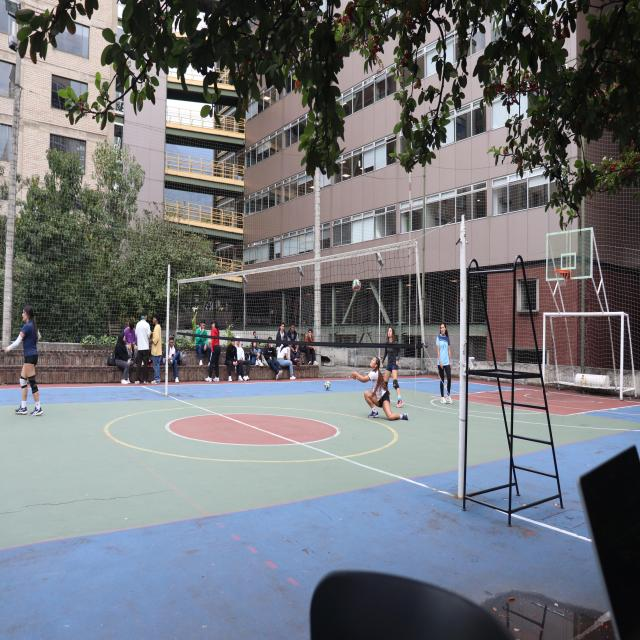volleyball: (352, 279, 361, 292), (324, 381, 330, 390)
